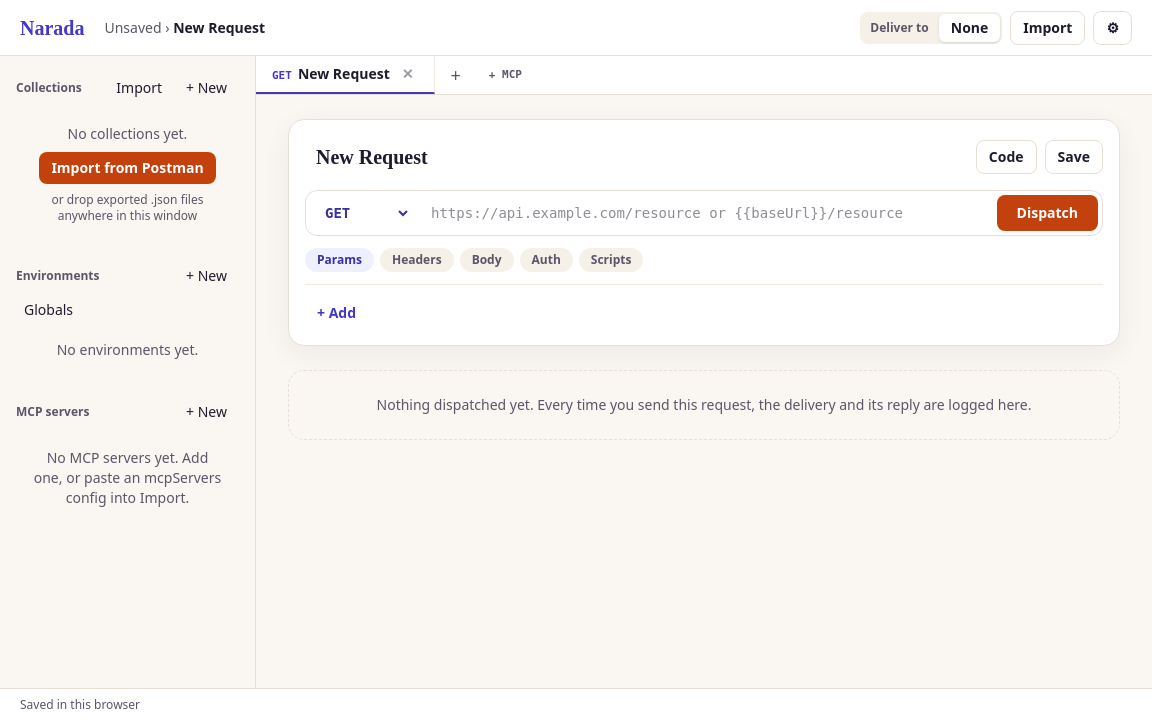
Test: scripts, runner, code generation and OAuth › fetches an OAuth 2.0 client-credentials token into the request
Check: the heading "Narada" is shown, box [20,14,84,42]
Click the tab "Auth" at (546, 260), box [520,248,573,272]
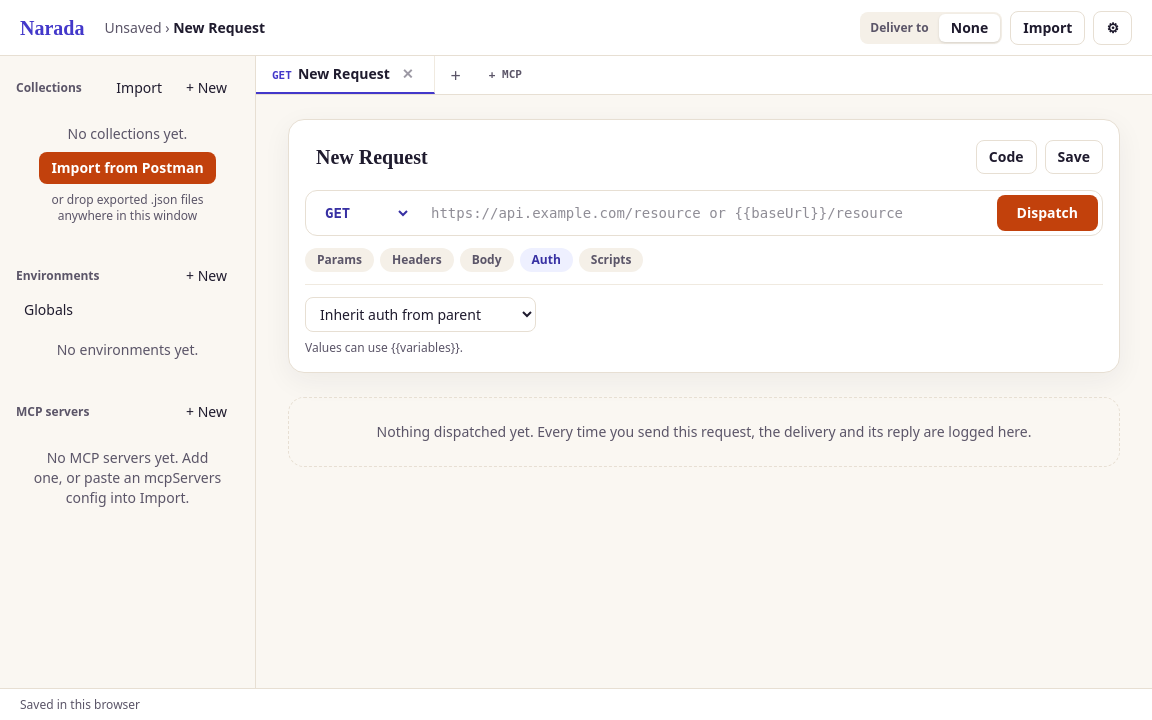
Select "OAuth 2.0 (client credentials)" in the dropdown named "Auth type" at (420, 314), box [305,297,536,332]
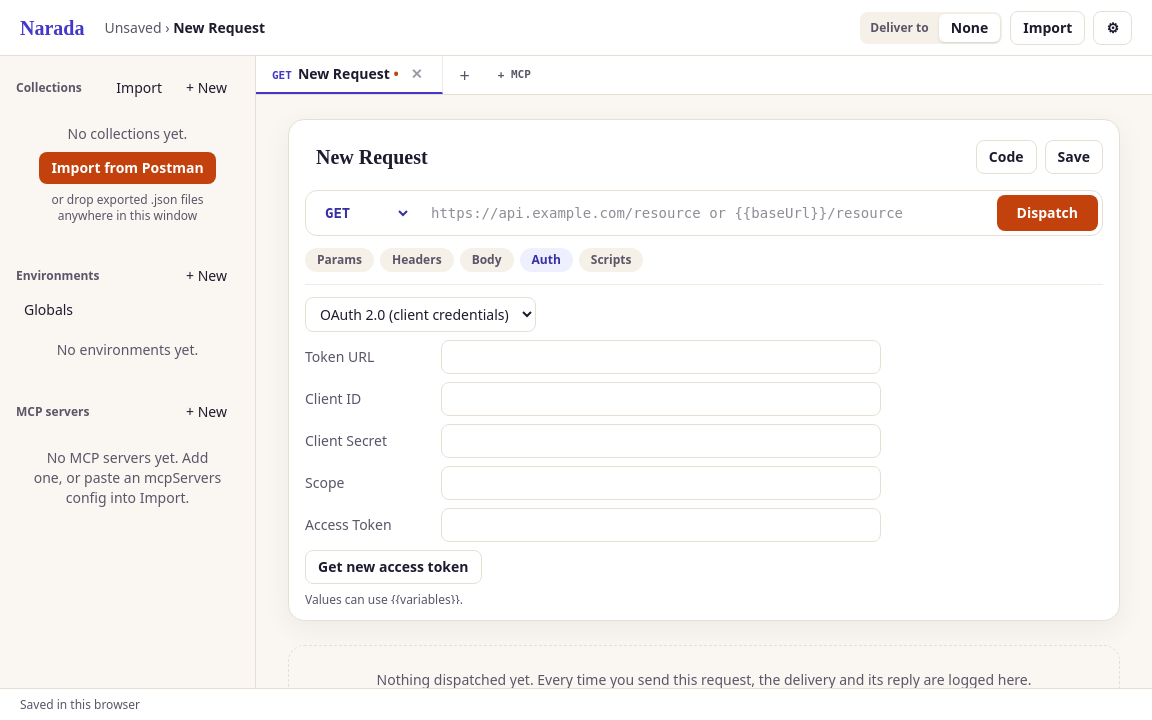
Type "https://auth.dev/token" into the field labelled "Token URL" at (661, 357), box [441,340,881,374]
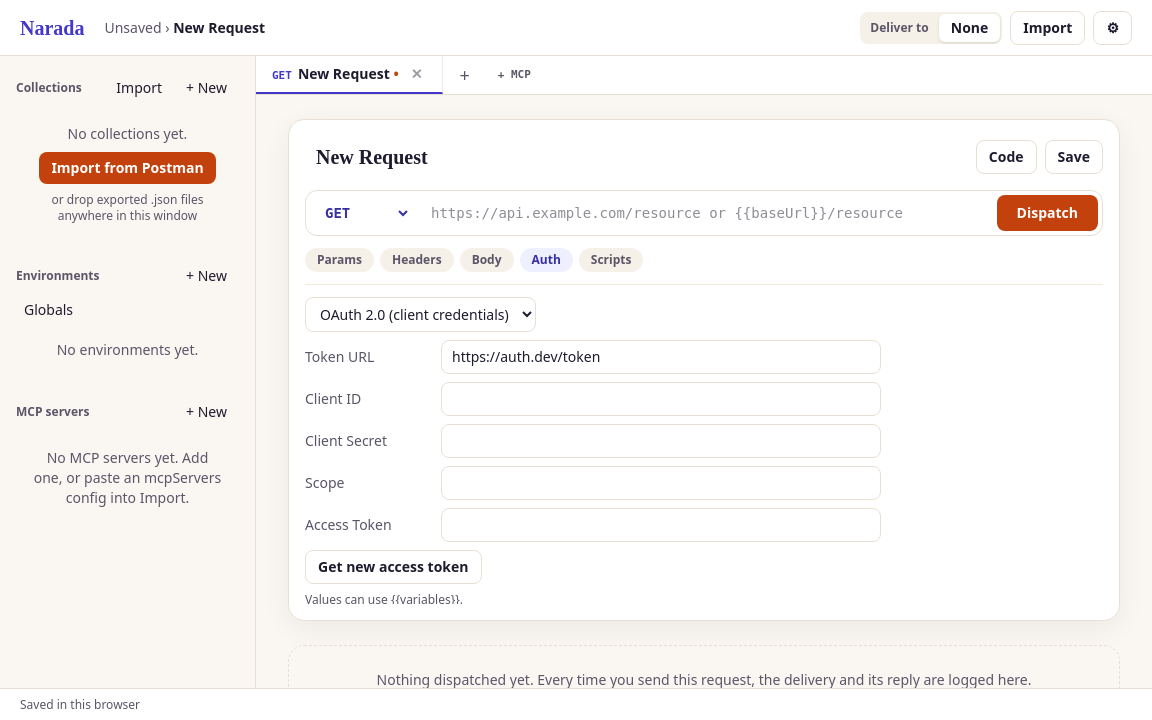
Type "id" into the field labelled "Client ID" at (661, 399), box [441,382,881,416]
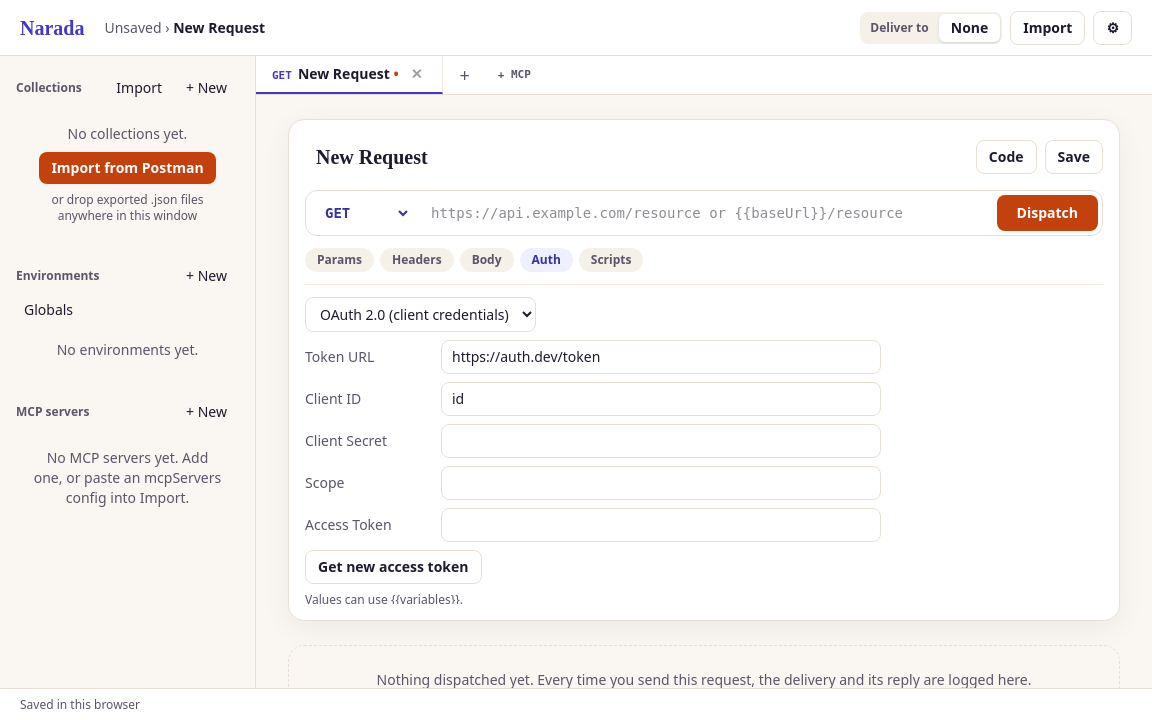
Click the button "Get new access token" at (393, 567), box [305,550,482,584]
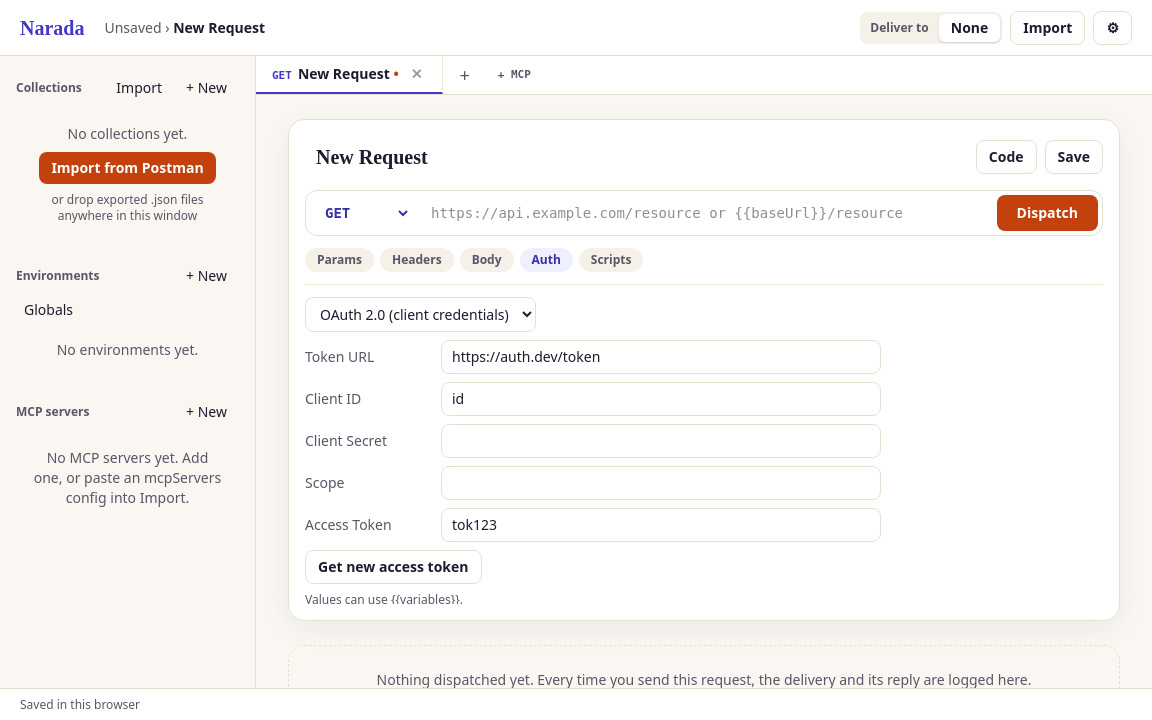
Check: the field labelled "Access Token" holds "tok123", box [441,508,881,542]
